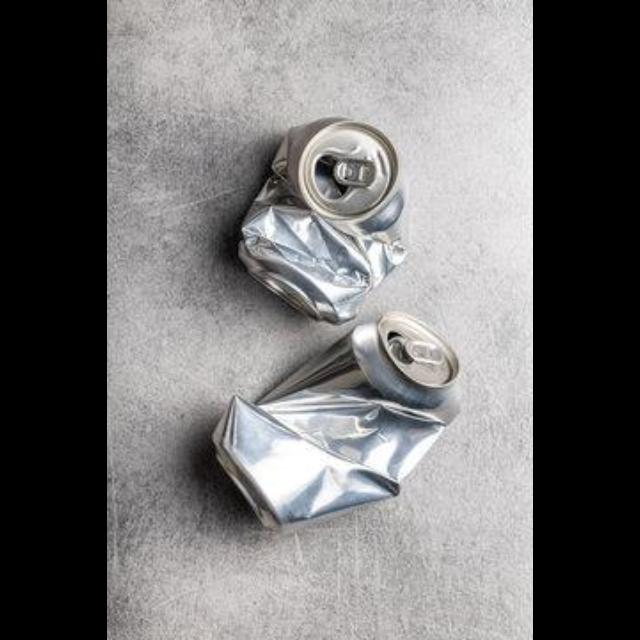aba de lata: (334, 158, 378, 188), (404, 340, 448, 364)
lata: (210, 309, 464, 533), (236, 116, 408, 324)
